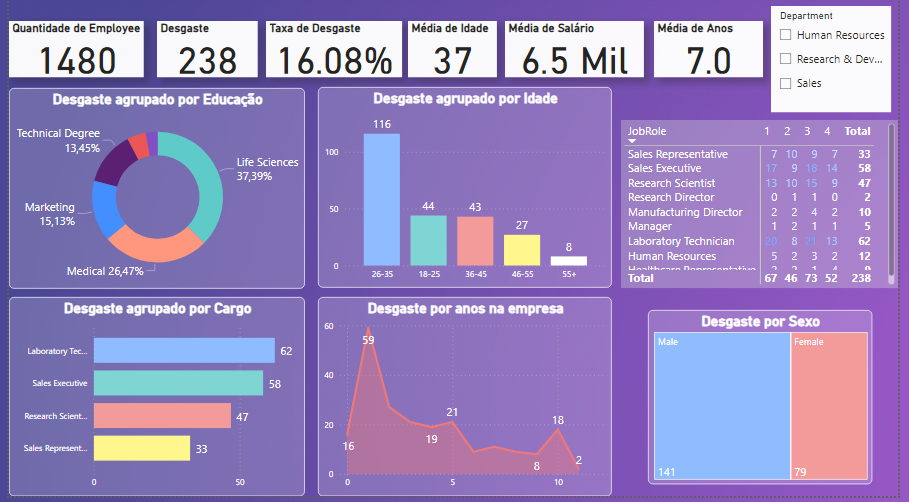

Layout of this report page (visuals, bound fields, positions):
{"tool":"powerbi","page":{"name":"Página 1","canvas":[1280,720],"ordinal":0},"visuals":[{"type":"card","title":"Quantidade de Employee","fields":{"Values":["CountNonNull(HR_Analytics.EmpID)"]},"box":[0,36,194.4,80.6],"z":0},{"type":"card","title":"Desgaste","fields":{"Values":["Sum(HR_Analytics.AttritionCount)"]},"box":[213.1,36,145.4,80.6],"z":1},{"type":"card","title":"Taxa de Desgaste","fields":{"Values":["HR_Analytics.AttritionRate"]},"box":[370.1,36,195.8,80.6],"z":2},{"type":"card","title":"Média de Idade","fields":{"Values":["Avg(HR_Analytics.Age)"]},"box":[574.6,36,128.2,80.6],"z":3},{"type":"card","title":"Média de Salário","fields":{"Values":["Avg(HR_Analytics.MonthlyIncome)"]},"box":[714.2,36,200.2,80.6],"z":4},{"type":"card","title":"Média de Anos","fields":{"Values":["Avg(HR_Analytics.YearsAtCompany)"]},"box":[928.8,36,157,80.6],"z":5},{"type":"donutChart","title":"Desgaste agrupado por Educação","fields":{"Category":["HR_Analytics.EducationField"],"Y":["Sum(HR_Analytics.AttritionCount)"]},"box":[0,132.5,426.2,289.4],"z":6},{"type":"clusteredColumnChart","title":"Desgaste agrupado por Idade","fields":{"Category":["HR_Analytics.AgeGroup"],"Y":["Sum(HR_Analytics.AttritionCount)"]},"box":[445,131,423.4,289.4],"z":7},{"type":"pivotTable","fields":{"Rows":["HR_Analytics.JobRole"],"Columns":["HR_Analytics.JobSatisfaction"],"Values":["Sum(HR_Analytics.AttritionCount)"]},"box":[881.3,178.6,398.9,241.9],"z":8},{"type":"clusteredBarChart","title":"Desgaste agrupado por Cargo","fields":{"Y":["Sum(HR_Analytics.AttritionCount)"],"Category":["HR_Analytics.JobRole"]},"box":[0,433.4,426.2,286.6],"z":9},{"type":"areaChart","title":"Desgaste por anos na empresa","fields":{"Category":["HR_Analytics.YearsAtCompany"],"Y":["Sum(HR_Analytics.AttritionCount)"]},"box":[445,433.4,423.4,286.6],"z":10},{"type":"treemap","title":"Desgaste por Sexo","fields":{"Group":["HR_Analytics.Gender"],"Values":["Sum(HR_Analytics.AttritionCount)"]},"box":[920.2,452.2,322.6,250.6],"z":11},{"type":"slicer","fields":{"Values":["HR_Analytics.Department"]},"box":[1097.3,14.4,172.8,152.6],"z":12}]}

Visuals, with their boxes in screenshot pixels (x1, y1, x2, y2), scaled from the page's 1280x720 canvas onto the 909x502 screenshot:
"Quantidade de Employee" card: 0/25/138/81
"Desgaste" card: 151/25/255/81
"Taxa de Desgaste" card: 263/25/402/81
"Média de Idade" card: 408/25/499/81
"Média de Salário" card: 507/25/649/81
"Média de Anos" card: 660/25/771/81
"Desgaste agrupado por Educação" donutChart: 0/92/303/294
"Desgaste agrupado por Idade" clusteredColumnChart: 316/91/617/293
pivotTable - HR_Analytics.JobRole x HR_Analytics.JobSatisfaction: 626/125/908/293
"Desgaste agrupado por Cargo" clusteredBarChart: 0/302/303/501
"Desgaste por anos na empresa" areaChart: 316/302/617/501
"Desgaste por Sexo" treemap: 653/315/883/490
slicer - HR_Analytics.Department: 779/10/902/116
